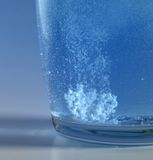glass of water: (54, 11, 119, 129)
